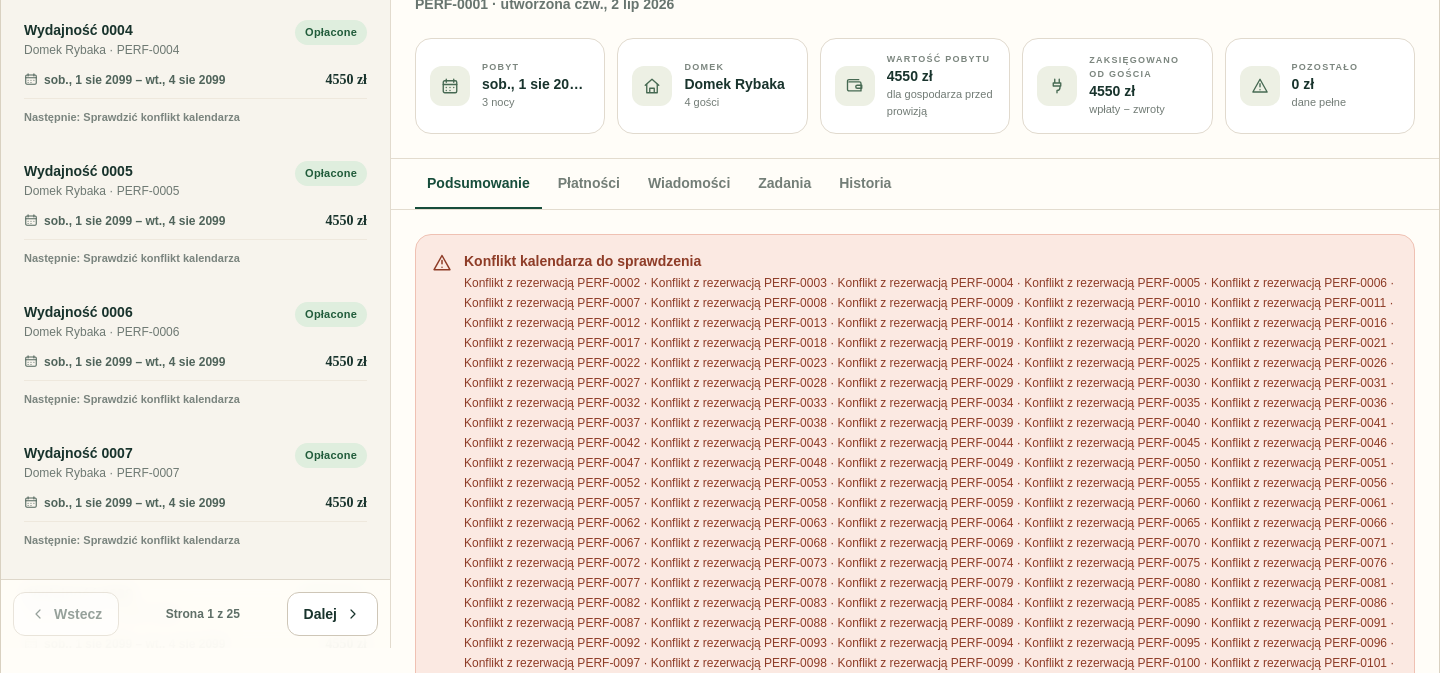
Scenario: BookingsView — fundament UX › dla 1000 rekordów renderuje tylko jedną stronę po 40 pozycji
(page scrolled)
Expected: the text "Strona 1 z 25" is shown, x1=166 y1=606 x2=240 y2=622
Click the button with aria-label "Następna strona rezerwacji" at (332, 614), box x1=286 y1=592 x2=378 y2=636
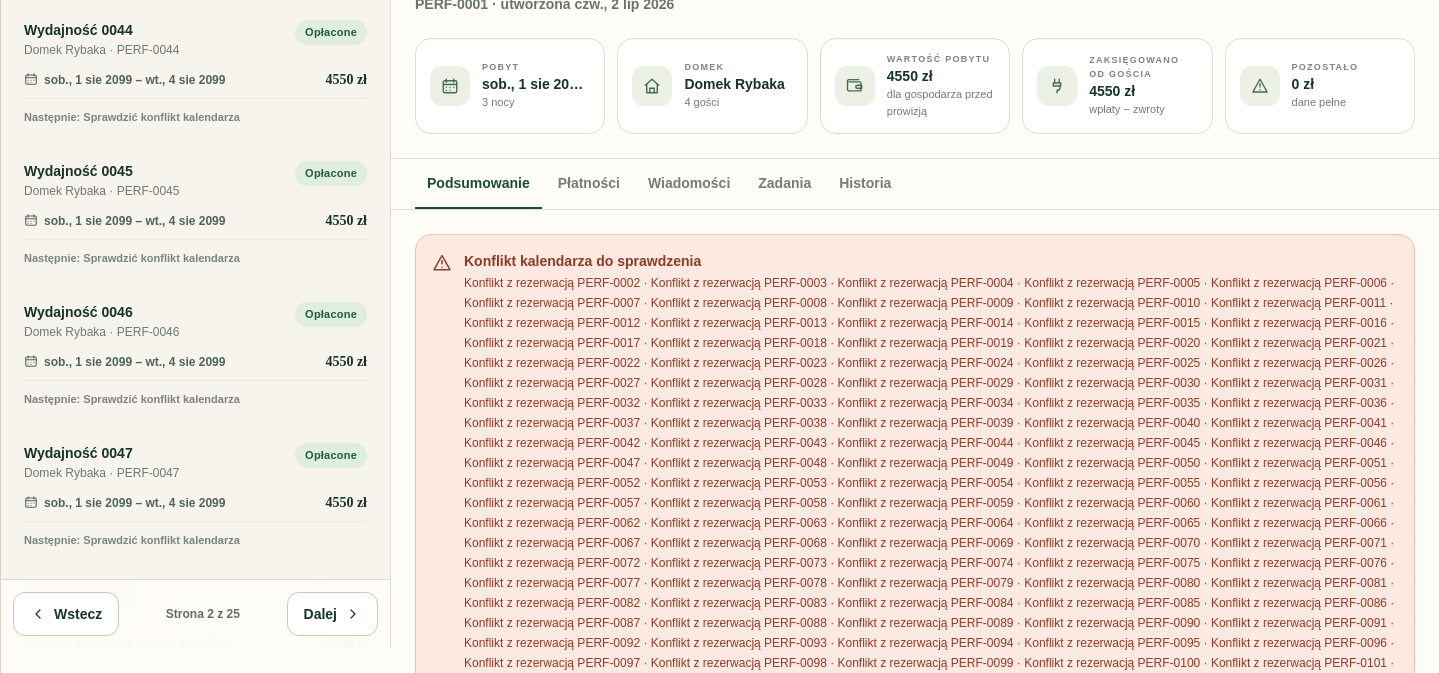
Expected: the text "Strona 2 z 25" is shown, x1=166 y1=606 x2=240 y2=622
